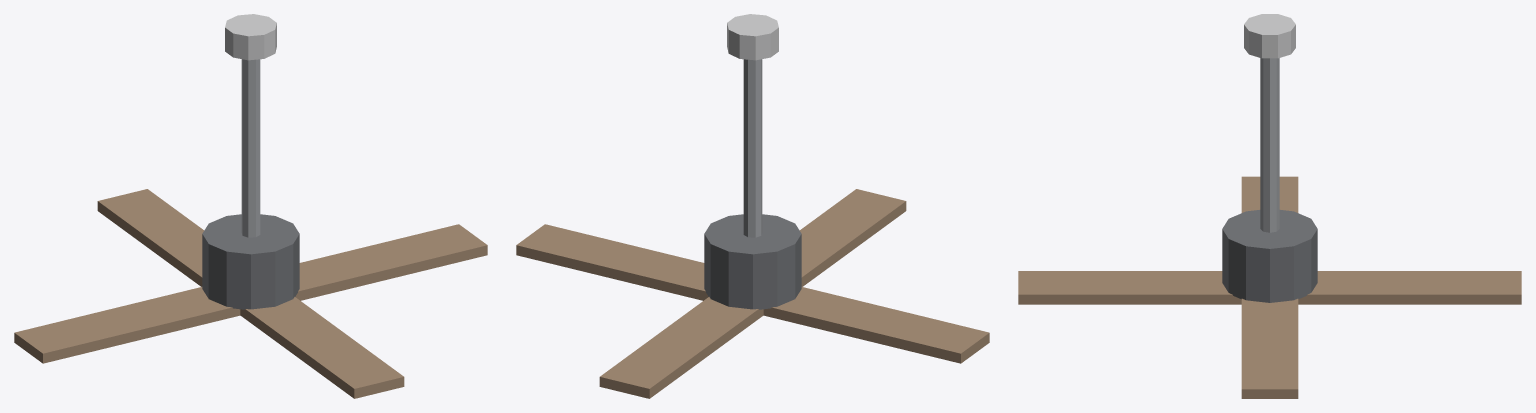
File: eld_ventilador_teto.glb
3 views of the same model, side by side, from view 1: azimuth 30°, elevation 25°; view 2: azimuth 150°, elevation 25°; view 3: azimuth 270°, elevation 25° (orthographic). The views are drawn at different scales.
Visible parts, largest first — view 1: ELD_VENTILADOR_TETO_v01; view 2: ELD_VENTILADOR_TETO_v01; view 3: ELD_VENTILADOR_TETO_v01.
Boxes of the visible parts, bbox=[...] form: ELD_VENTILADOR_TETO_v01: bbox=[14, 14, 487, 398]; ELD_VENTILADOR_TETO_v01: bbox=[516, 14, 989, 398]; ELD_VENTILADOR_TETO_v01: bbox=[1018, 14, 1521, 398].
Bounding box in the file's own units: 1.16 × 0.725 × 1.16.
